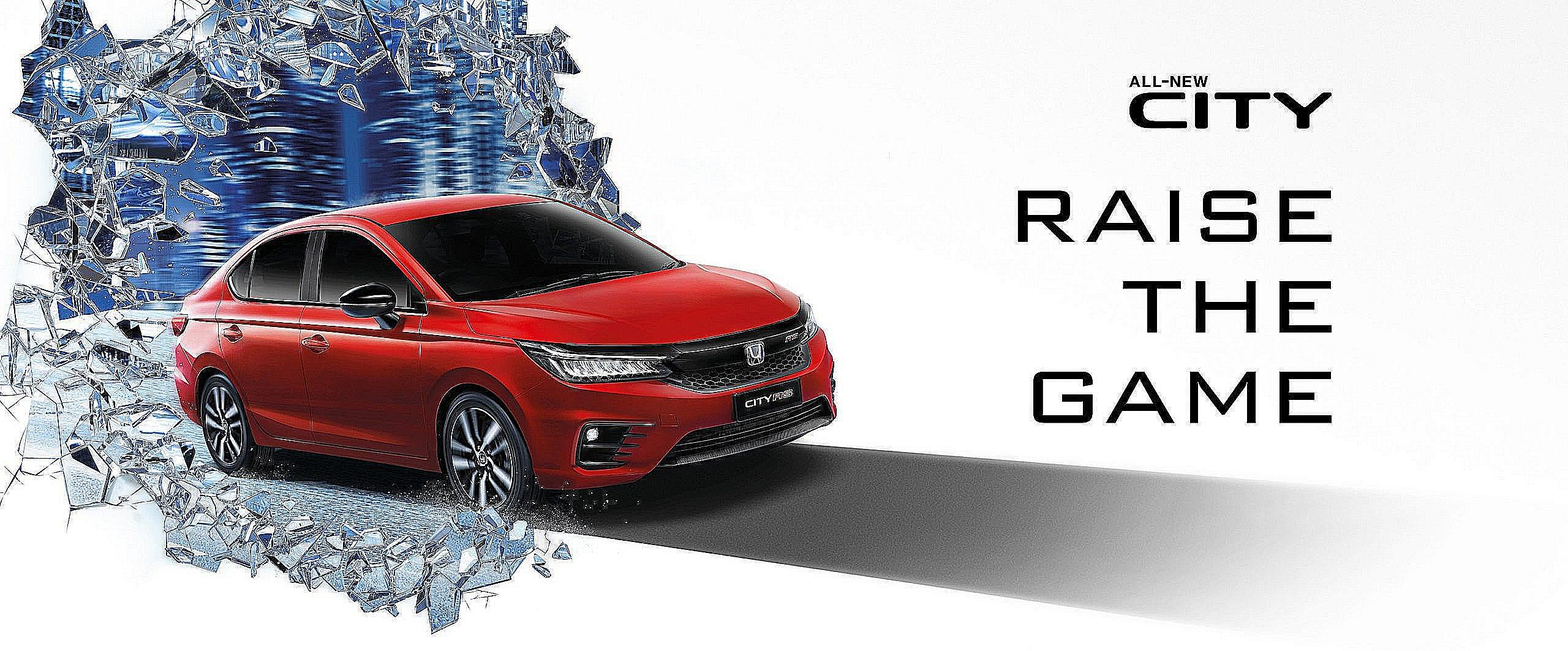Car hood: (459, 250, 810, 348)
Driver-s door - -F-R-: (291, 181, 435, 479)
Fender - -F-R-: (407, 303, 537, 470)
Fender - -R-R-: (175, 224, 238, 392)
Front bumper: (498, 321, 864, 491)
Headlight - -R-: (515, 336, 676, 390)
Passenger-s door - -R-R-: (211, 191, 337, 471)
Rear bumper: (164, 363, 204, 426)
Rear light - -R-: (170, 310, 185, 342)
Side bumper - -R-: (246, 403, 446, 491)
Side mirror - -R-: (337, 281, 406, 335)
